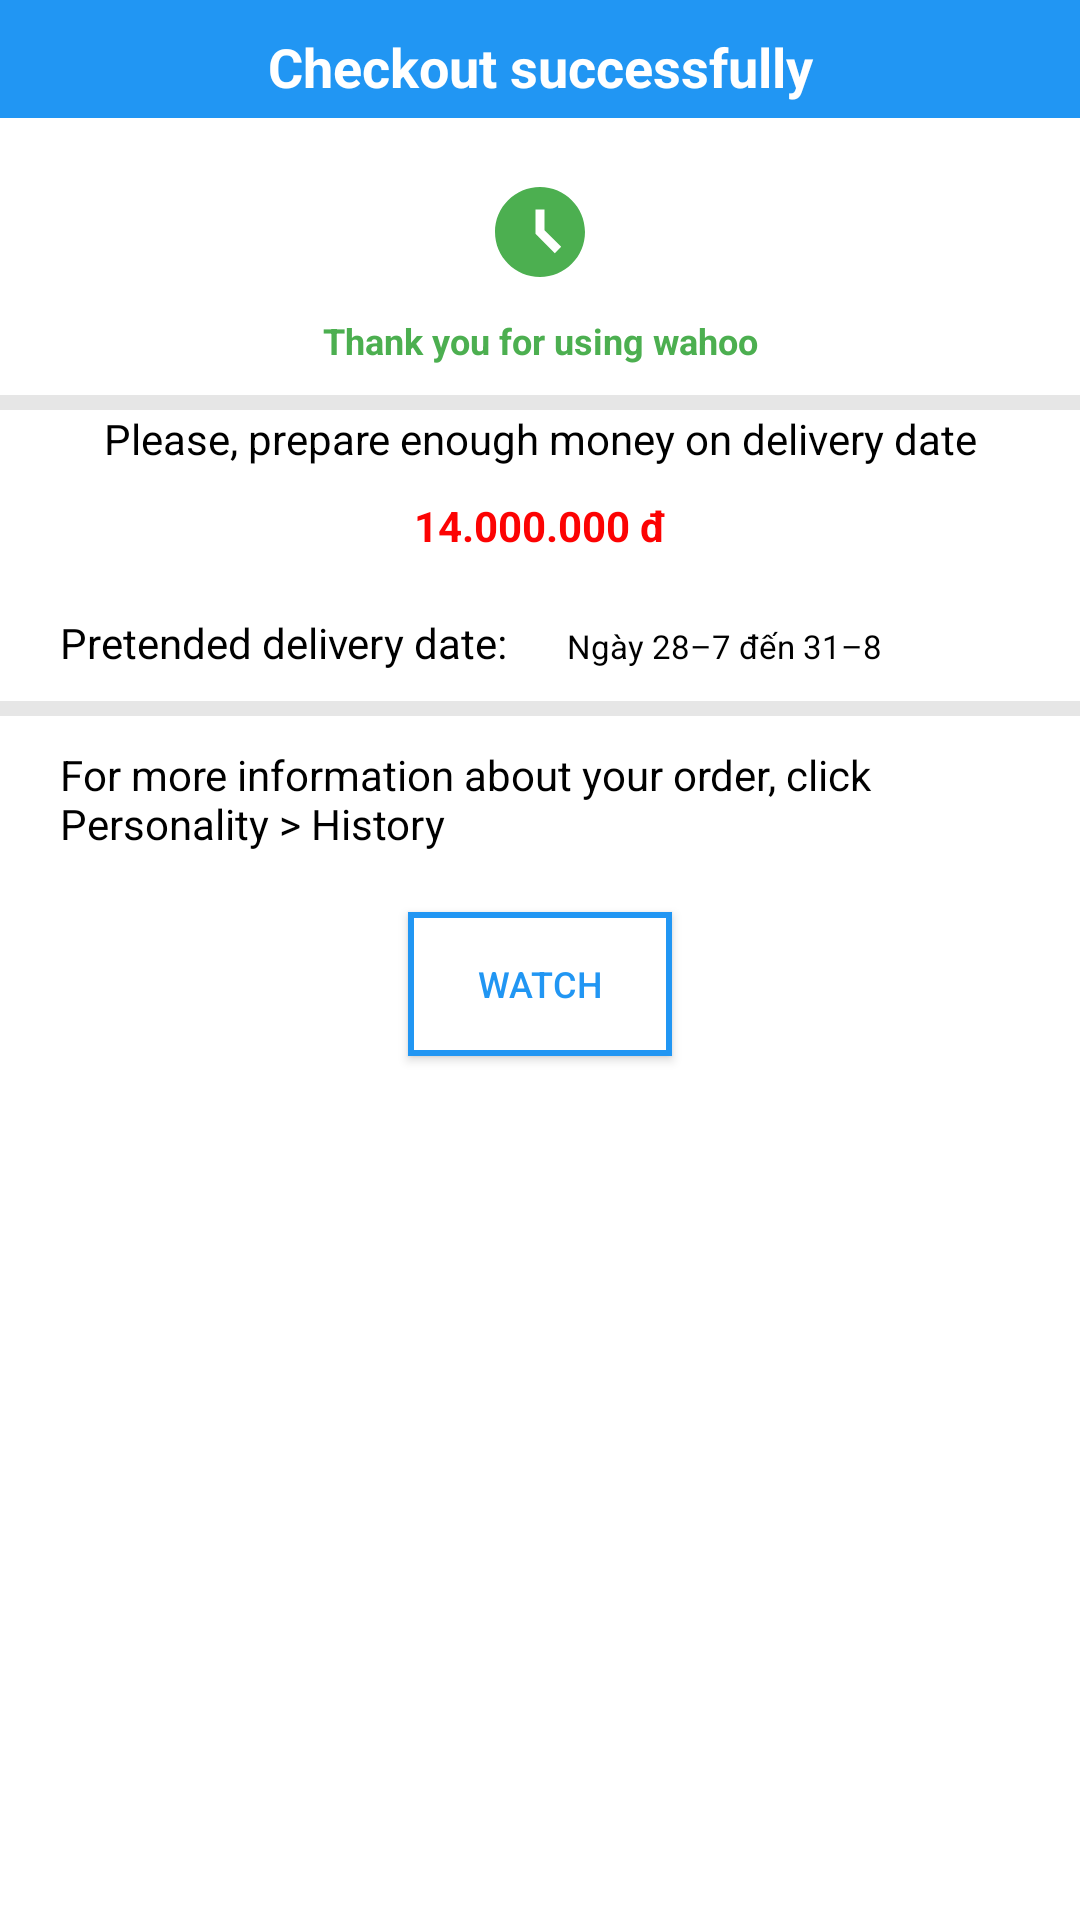

Named icons in this screenshot (1080w x 1920h) and their centers, [x,y]:
clock: [540,232]
